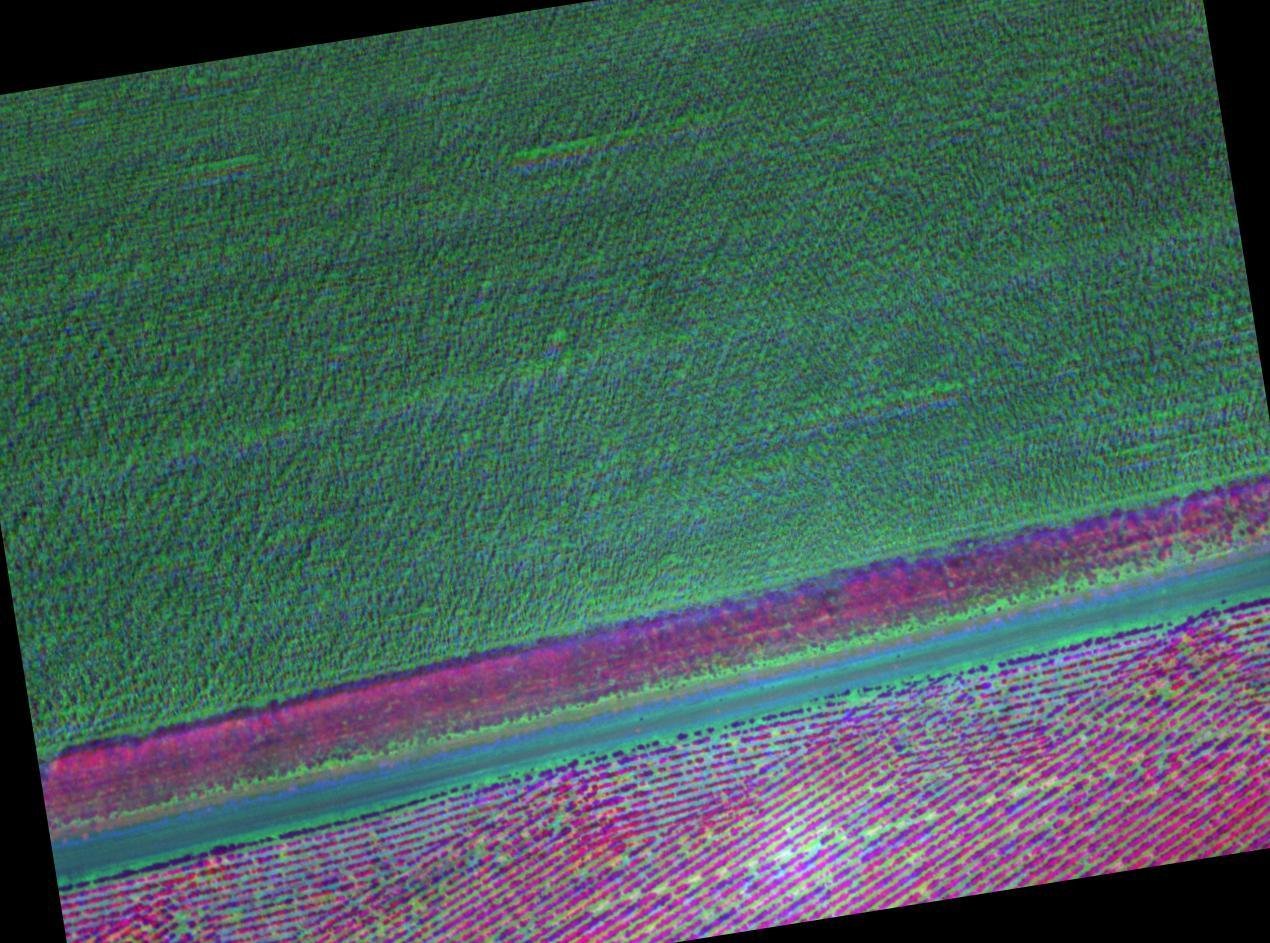dc: (176, 914, 184, 923), (598, 905, 604, 911), (1108, 770, 1113, 775), (872, 832, 877, 837), (693, 875, 698, 880), (919, 887, 924, 892), (1175, 621, 1178, 625), (1162, 687, 1166, 690), (1013, 788, 1016, 792), (925, 814, 928, 818), (793, 889, 797, 892)
